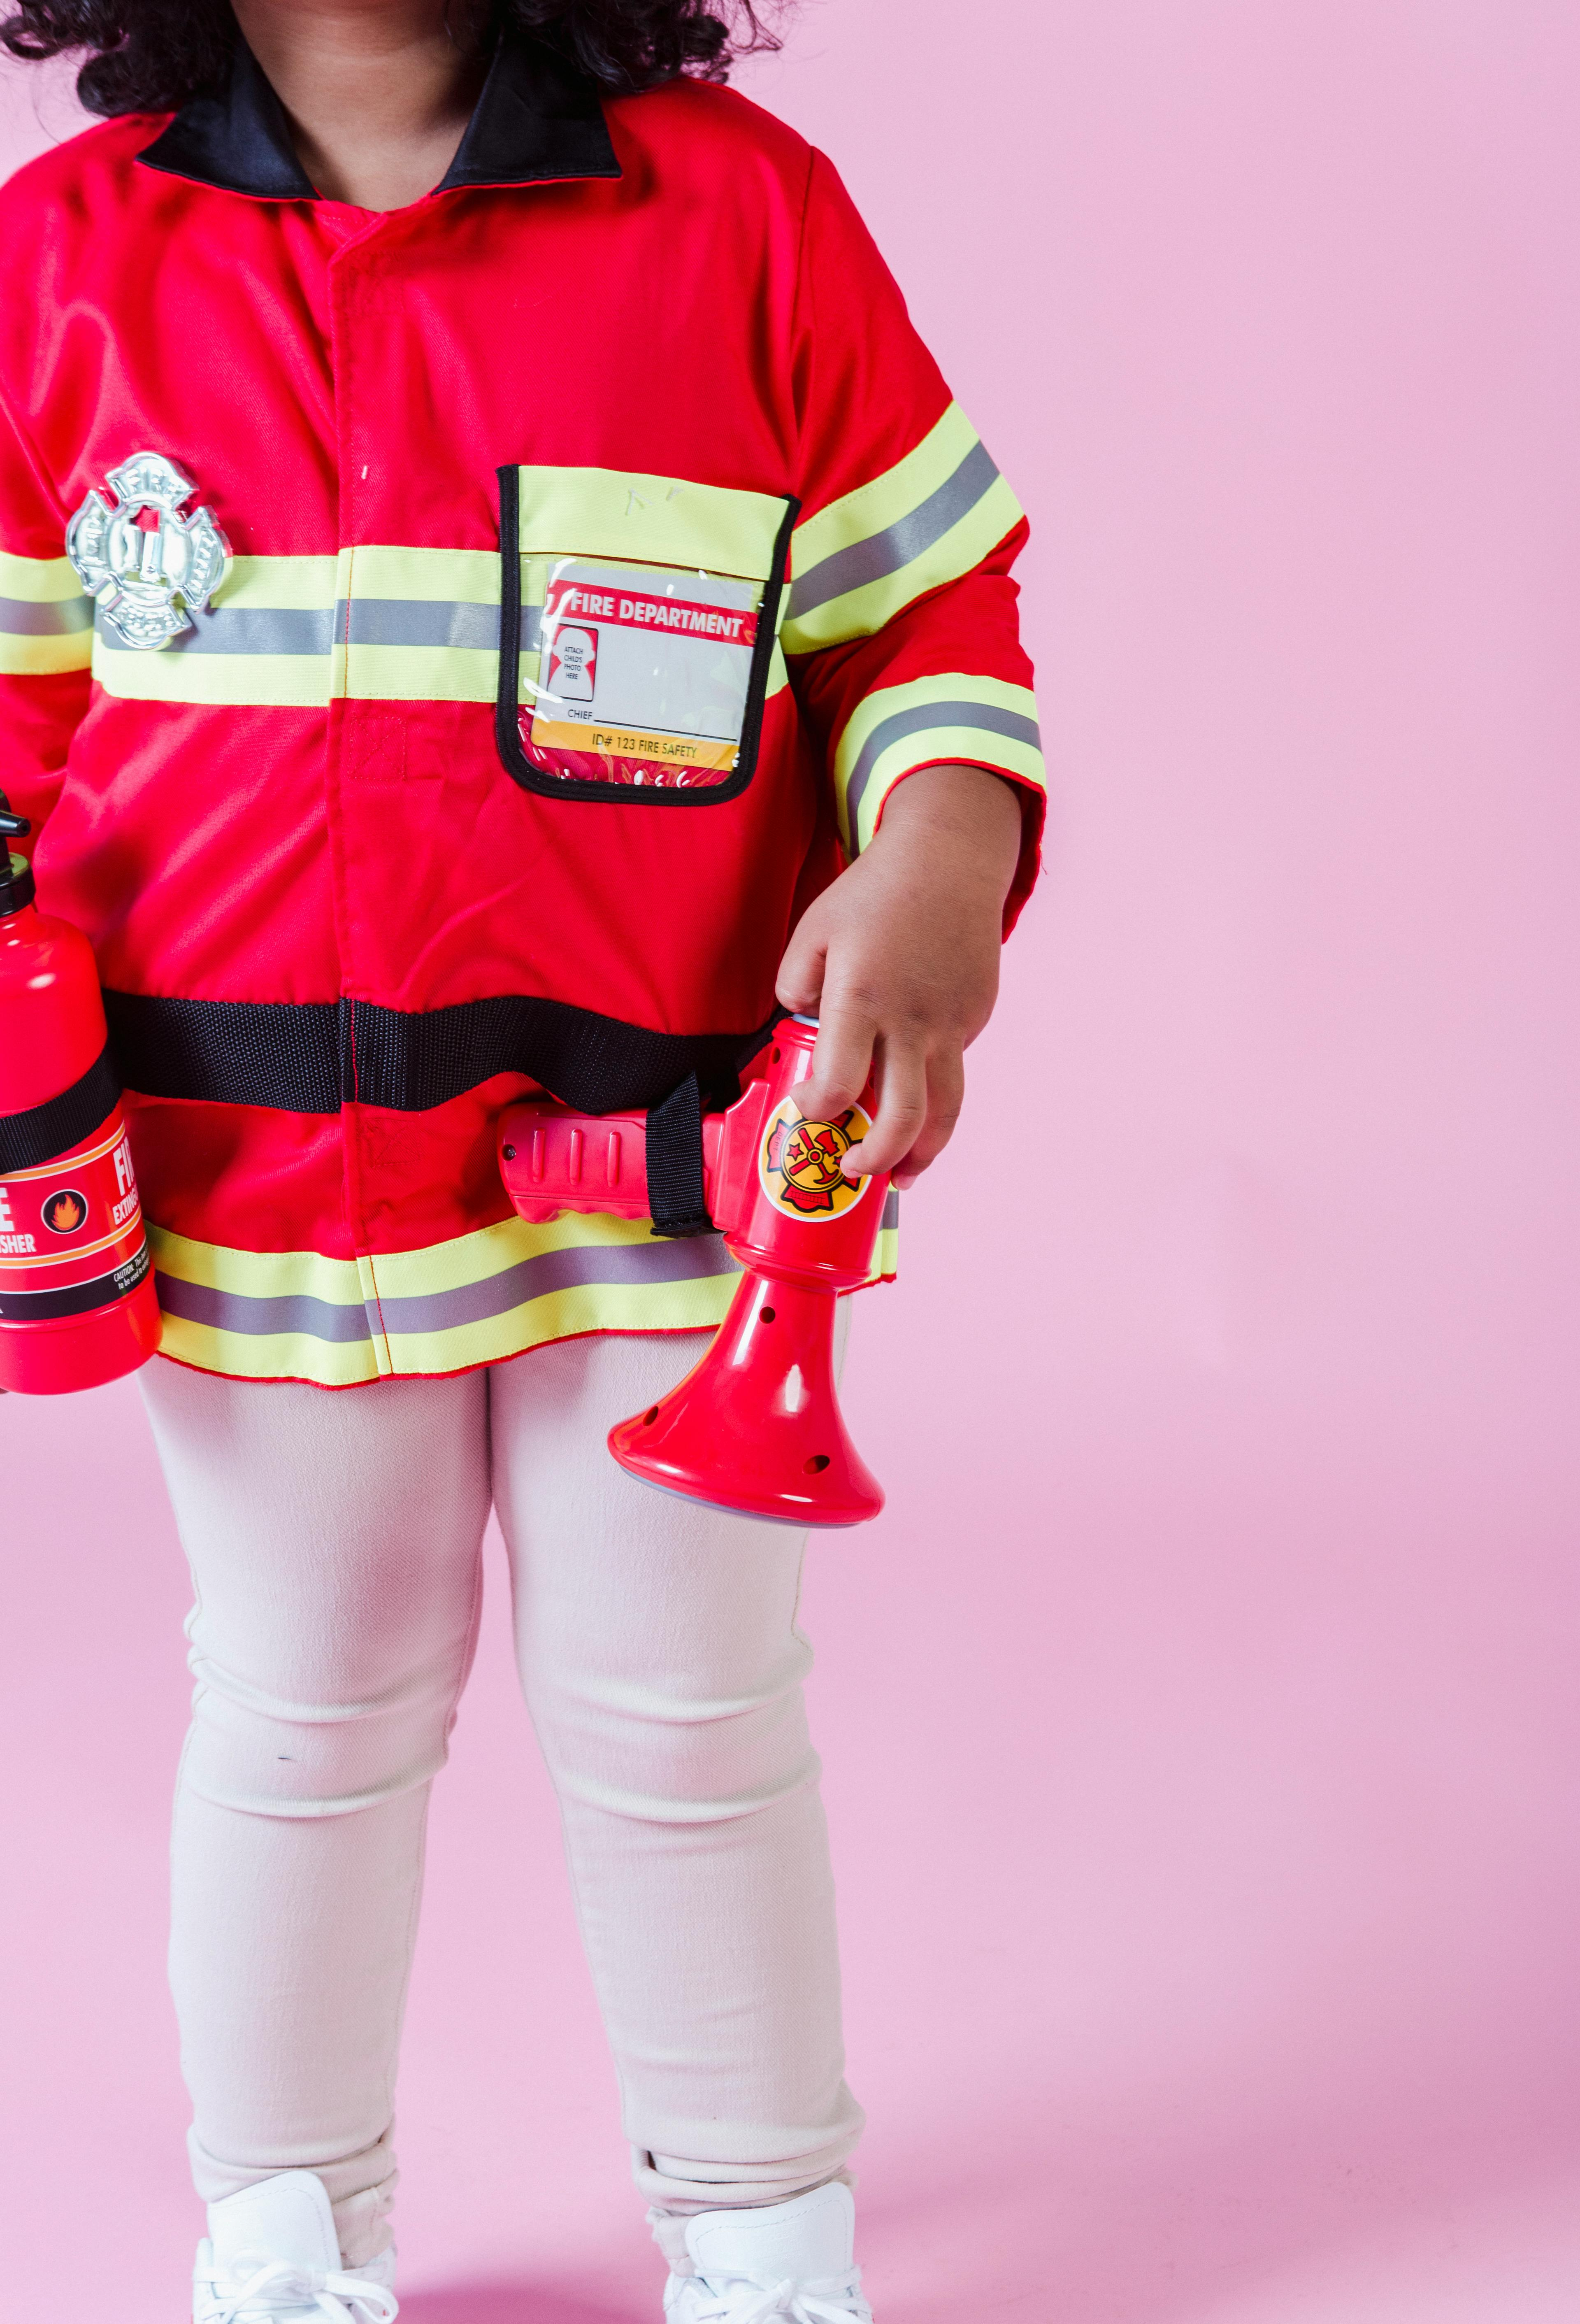extintor: (0, 781, 164, 1411)
